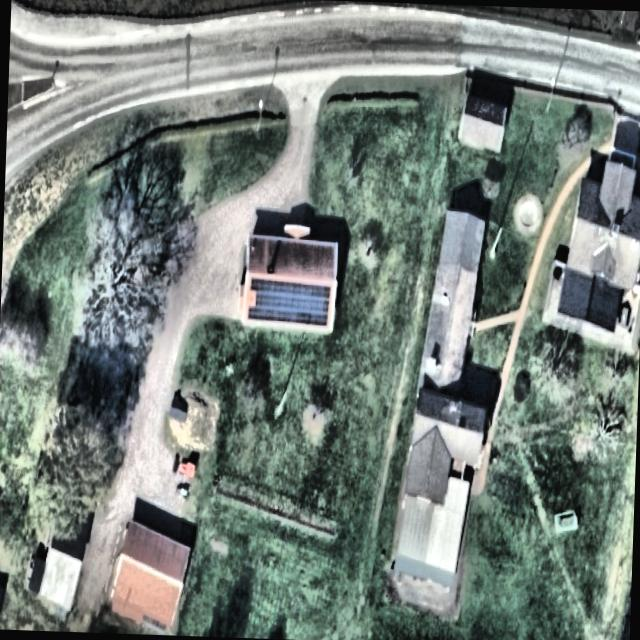roof_pv: (246, 279, 332, 331)
